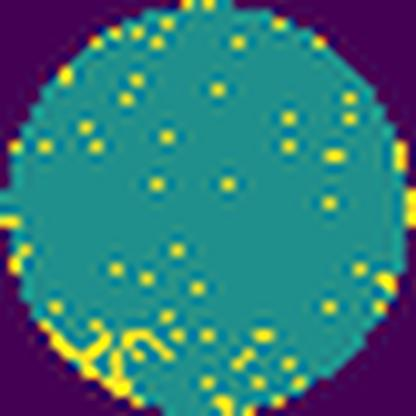Edge-Loc: (38, 310, 180, 407)
